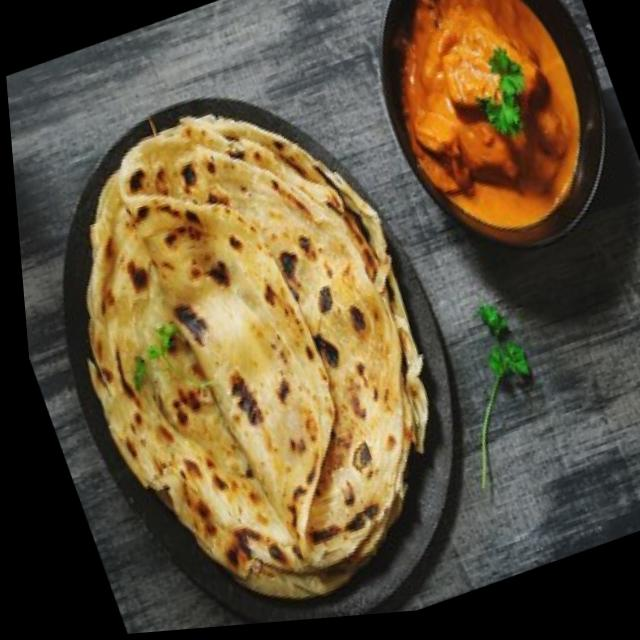FISH CURRY: (398, 0, 577, 228)
PAROTTA: (85, 110, 430, 597)
